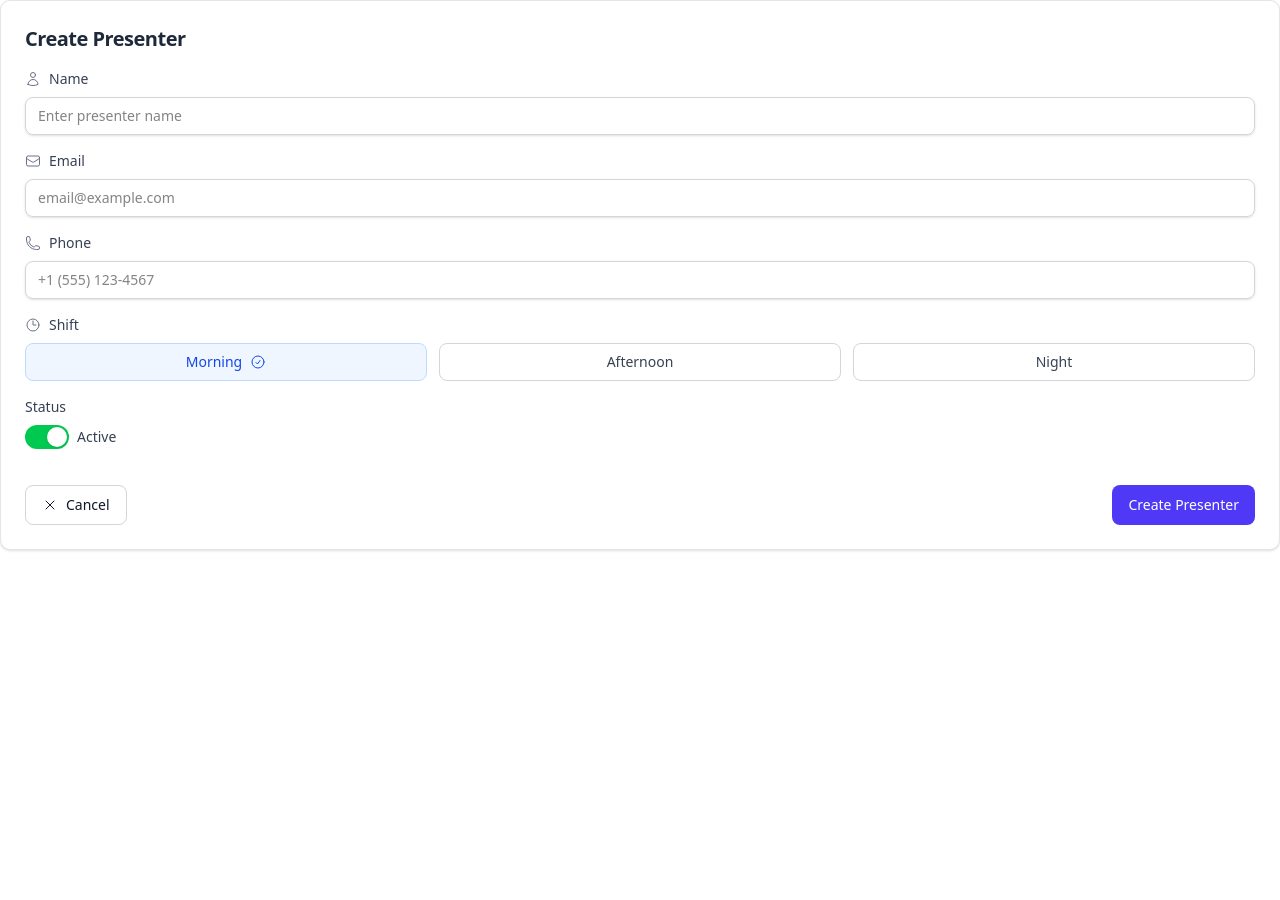
PresenterForm Component › shows validation errors when form is submitted with empty fields
Click the button "Create Presenter": (1184, 505) top-left (1112, 485), bottom-right (1255, 525)
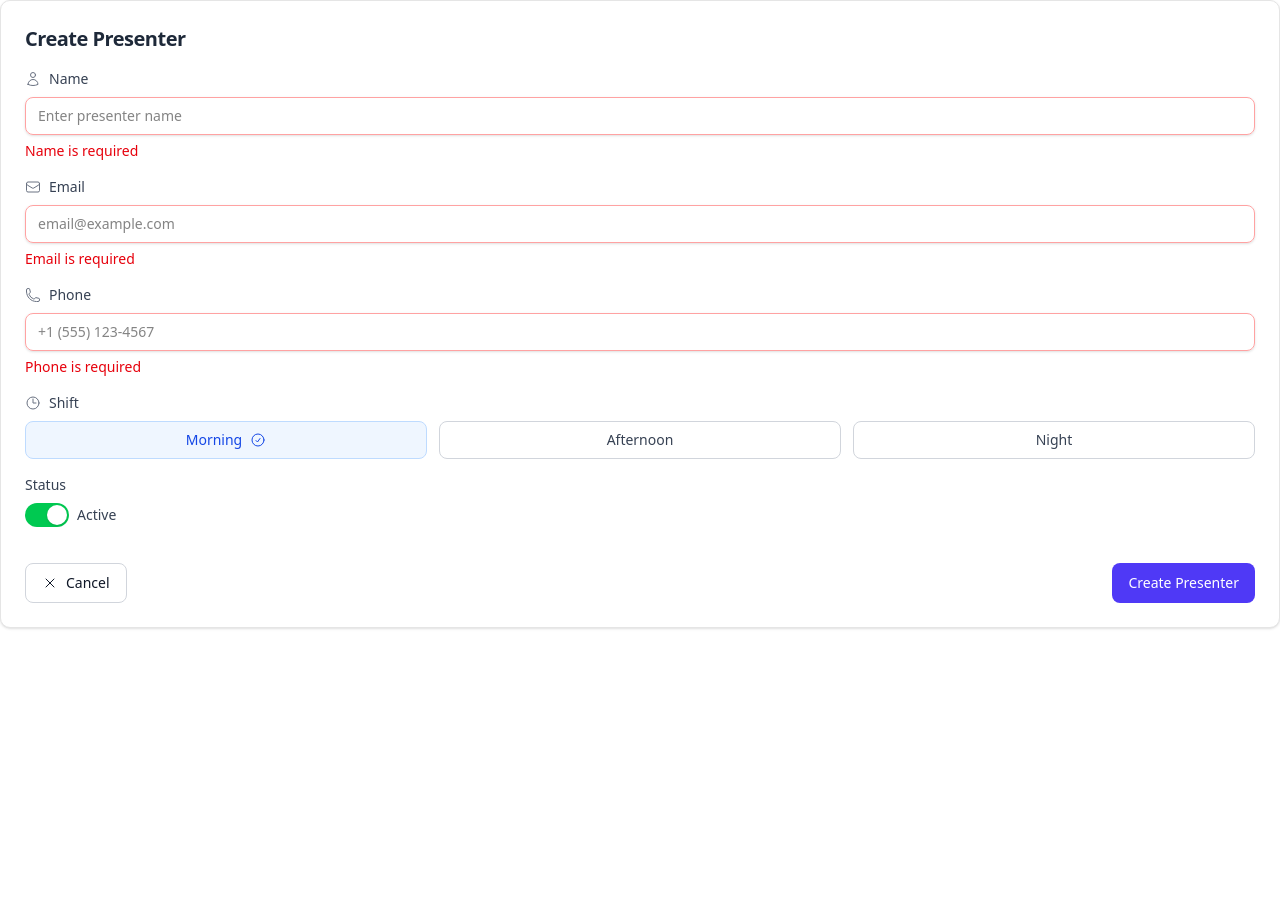
expect the text "Name is required" is shown: met, box top-left (25, 141), bottom-right (138, 160)
expect the text "Email is required" is shown: met, box top-left (25, 249), bottom-right (135, 268)
expect the text "Phone is required" is shown: met, box top-left (25, 357), bottom-right (141, 376)
